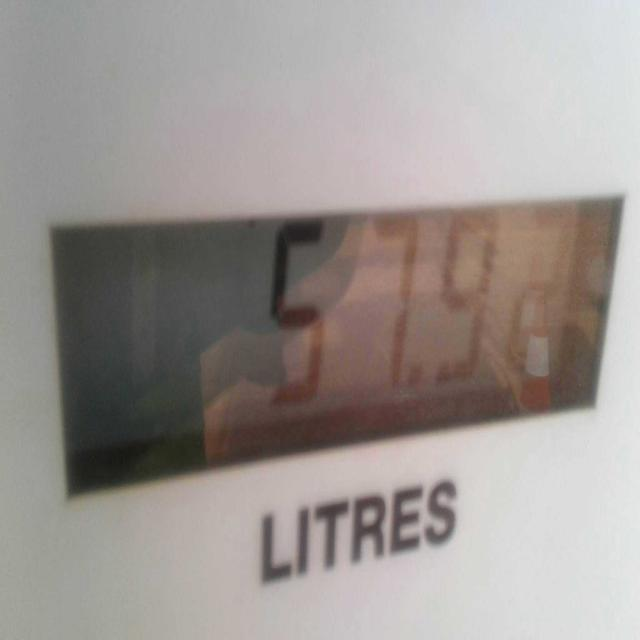.: (406, 367, 420, 395)
2: (511, 210, 573, 389)
5: (263, 213, 329, 411)
7: (364, 214, 412, 401)
9: (434, 210, 492, 401)
